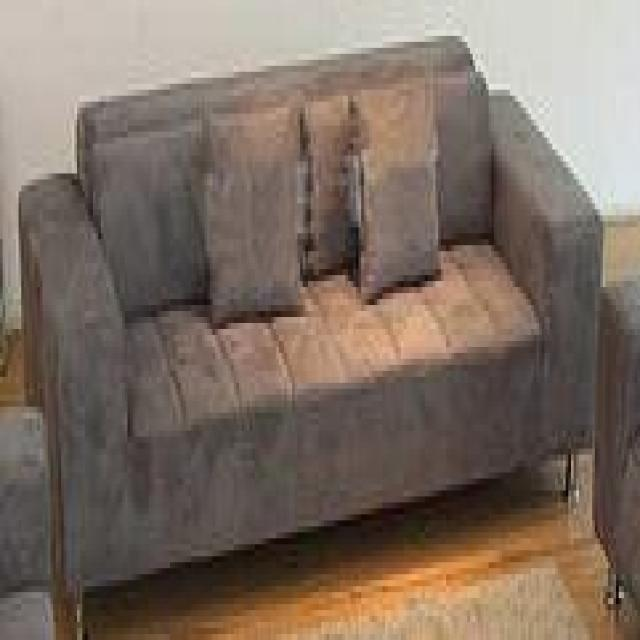sofa: (19, 32, 604, 640)
